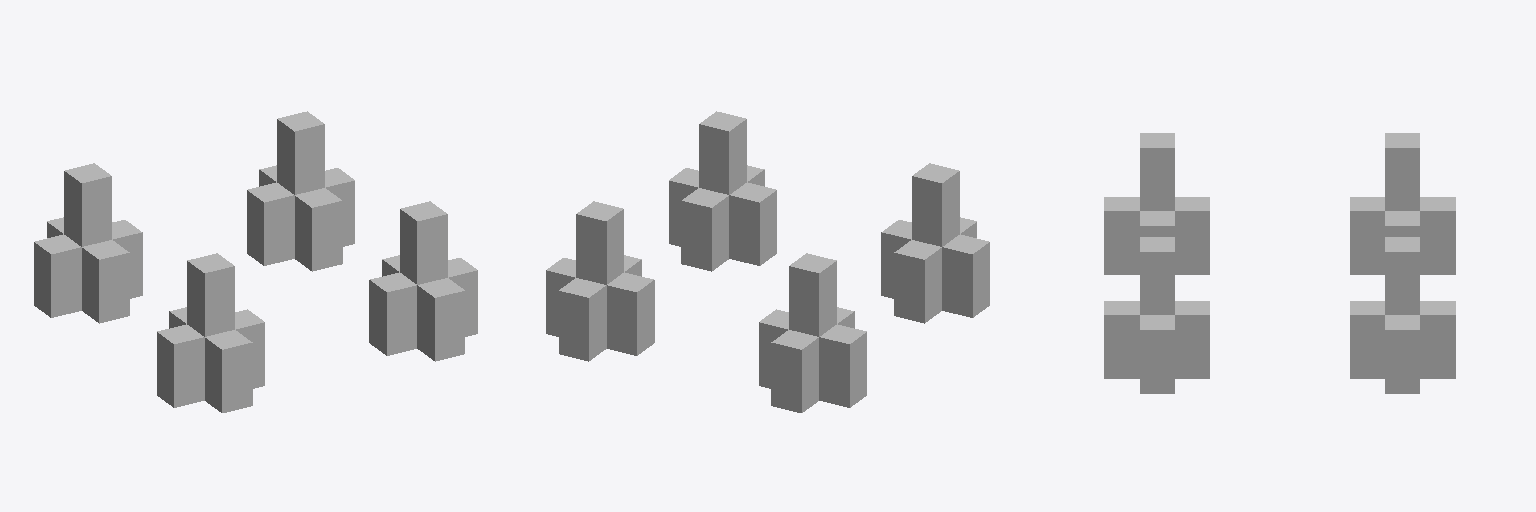
Rendered from spikes.obj.
The picture shows the model from 3 angles: view 1: azimuth 30°, elevation 25°; view 2: azimuth 150°, elevation 25°; view 3: azimuth 270°, elevation 25°; orthographic projection.
Parts seen in each view (by area): view 1: object 1; view 2: object 1; view 3: object 1.
Boxes of the visible parts, <box> form: object 1: <box>34,111,477,412</box>; object 1: <box>546,111,989,412</box>; object 1: <box>1104,133,1455,393</box>.
Size of the model in its own units: 1 by 0.4 by 1.